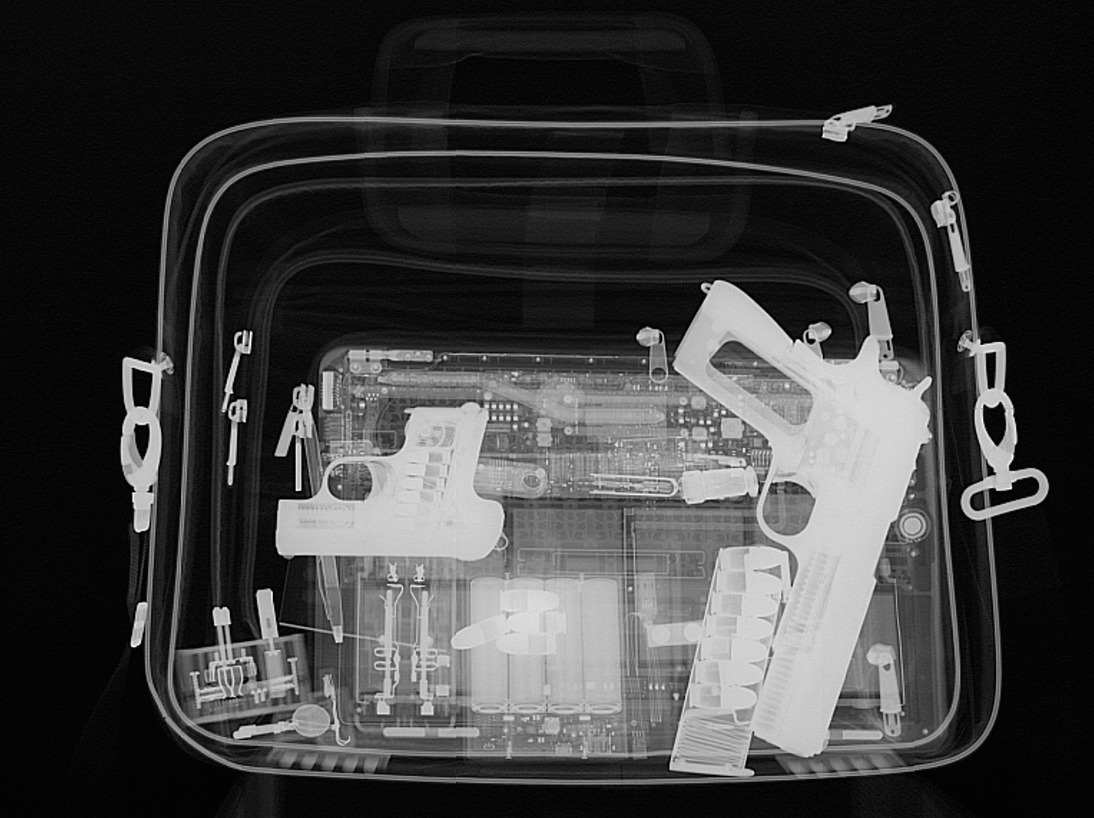gun: (668, 272, 929, 761), (265, 402, 516, 579)
